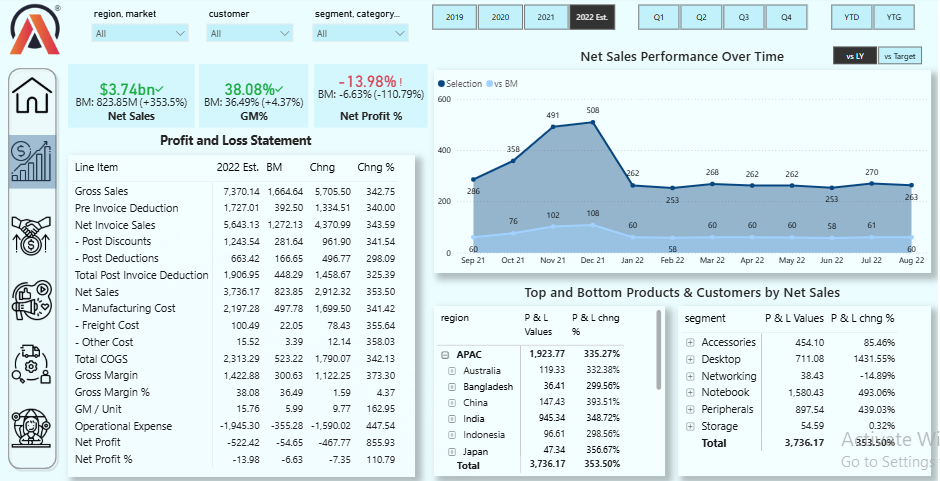

This screenshot's page, from the dashboard's own definition file:
{"tool":"powerbi","page":{"name":"Finance View","canvas":[1400,720],"ordinal":1},"visuals":[{"type":"pivotTable","fields":{"Columns":["P n L columns.Col Header"],"Rows":["P & L Rows.Line Item"],"Values":["Key Measures.P n L Final value"]},"box":[101.5,230.8,518.5,480],"z":0},{"type":"slicer","fields":{"Values":["Fiscal Year.FY_desc"]},"box":[620,0,321.5,50.8],"z":1000},{"type":"slicer","fields":{"Values":["dim_date.Quarter"]},"box":[926.2,0,301.5,50.8],"z":2000},{"type":"slicer","fields":{"Values":["dim_date.YTD_YTG"]},"box":[1215.4,0,173.8,50.8],"z":3000},{"type":"areaChart","fields":{"Category":["dim_date.Date"],"Y":["Key Measures.P & L Values","Key Measures.P & L BM"]},"box":[647.7,104.6,741.5,303.1],"z":4000},{"type":"pivotTable","fields":{"Rows":["dim_market.region","dim_market.market","dim_customer.customer"],"Values":["Key Measures.P & L Values","Key Measures.P n L YoY chng %"]},"box":[647.7,456.9,344.6,253.8],"z":5000},{"type":"pivotTable","fields":{"Rows":["dim_product.segment","dim_product.category","dim_product.product"],"Values":["Key Measures.P & L Values","Key Measures.P n L YoY chng %"]},"box":[1012.3,456.9,376.9,253.8],"z":6000},{"type":"cardVisual","fields":{"Data":["Key Measures.Performance visual title"]},"box":[647.7,50.8,741.5,61.5],"z":7000},{"type":"cardVisual","fields":{"Data":["Key Measures.Top / Bottom N title"]},"box":[647.7,403.1,741.5,61.5],"z":8000},{"type":"textbox","box":[101.5,190.8,500,40],"z":9000},{"type":"slicer","fields":{"Values":["dim_market.region","dim_market.market"]},"box":[126.2,7.7,164.6,63.1],"z":10000},{"type":"slicer","fields":{"Values":["dim_customer.customer"]},"box":[299.2,7.7,149.2,63.1],"z":11000},{"type":"slicer","fields":{"Values":["dim_product.segment","dim_product.category","dim_product.product"]},"box":[456.9,7.7,163.1,63.1],"z":12000},{"type":"kpi","fields":{"Goal":["Key Measures.NS BM $"],"Indicator":["Key Measures.Net sales $"],"TrendLine":["dim_date.Fiscal year"]},"box":[101.5,95.4,189.2,95.4],"z":13000},{"type":"textbox","box":[115.4,156.9,161.5,40],"z":14000},{"type":"kpi","fields":{"Goal":["Key Measures.GM% BM"],"Indicator":["Key Measures.Gross margin %"],"TrendLine":["dim_date.Fiscal year"]},"box":[296.9,95.4,163.1,95.4],"z":15000},{"type":"textbox","box":[298.5,156.9,161.5,41.5],"z":16000},{"type":"kpi","fields":{"Goal":["Key Measures.NP% BM"],"Indicator":["Key Measures.Net profit %"],"TrendLine":["dim_date.Fiscal year"]},"box":[468,95.4,170,95.4],"z":17000},{"type":"textbox","box":[473.8,156.9,161.5,43.1],"z":18000},{"type":"image","box":[4.6,4.6,96.9,76.9],"z":19000},{"type":"shape","box":[6.2,95.4,84.6,610.8],"z":20000},{"type":"image","box":[16.9,323.1,60,60],"z":21000},{"type":"image","box":[16.9,418.5,61.5,60],"z":22000},{"type":"image","box":[16.9,210.8,60,60],"z":23000},{"type":"image","box":[16.9,609.2,60,60],"z":24000},{"type":"image","box":[16.9,513.8,60,60],"z":25000},{"type":"image","box":[18.5,112.3,60,60],"z":26000},{"type":"shape","box":[13.8,201.5,70.8,80],"z":27000},{"type":"slicer","fields":{"Values":["Set BM.Benchmarks"]},"box":[1218.3,63.3,181.7,36.7],"z":28000},{"type":"cardVisual","fields":{"Data":["Key Measures.BM Msg"]},"box":[101.7,55,533.3,56.7],"z":29000}]}

Visuals, with their boxes on the page's 1400x720 design canvas (x1, y1, x2, y2). These are canvas units, not pixel positions in the 940x481 screenshot, which may show the page scaled, cropped or inside an application window:
pivotTable - P n L columns.Col Header x P & L Rows.Line Item: 102 231 620 711
slicer - Fiscal Year.FY_desc: 620 0 942 51
slicer - dim_date.Quarter: 926 0 1228 51
slicer - dim_date.YTD_YTG: 1215 0 1389 51
areaChart - dim_date.Date x Key Measures.P & L Values: 648 105 1389 408
pivotTable - dim_market.region x dim_market.market: 648 457 992 711
pivotTable - dim_product.segment x dim_product.category: 1012 457 1389 711
cardVisual - Key Measures.Performance visual title: 648 51 1389 112
cardVisual - Key Measures.Top / Bottom N title: 648 403 1389 465
textbox: 102 191 602 231
slicer - dim_market.region x dim_market.market: 126 8 291 71
slicer - dim_customer.customer: 299 8 448 71
slicer - dim_product.segment x dim_product.category: 457 8 620 71
kpi - Key Measures.NS BM $ x Key Measures.Net sales $: 102 95 291 191
textbox: 115 157 277 197
kpi - Key Measures.GM% BM x Key Measures.Gross margin %: 297 95 460 191
textbox: 298 157 460 198
kpi - Key Measures.NP% BM x Key Measures.Net profit %: 468 95 638 191
textbox: 474 157 635 200
image: 5 5 102 82
shape: 6 95 91 706
image: 17 323 77 383
image: 17 418 78 478
image: 17 211 77 271
image: 17 609 77 669
image: 17 514 77 574
image: 18 112 78 172
shape: 14 202 85 282
slicer - Set BM.Benchmarks: 1218 63 1400 100
cardVisual - Key Measures.BM Msg: 102 55 635 112
